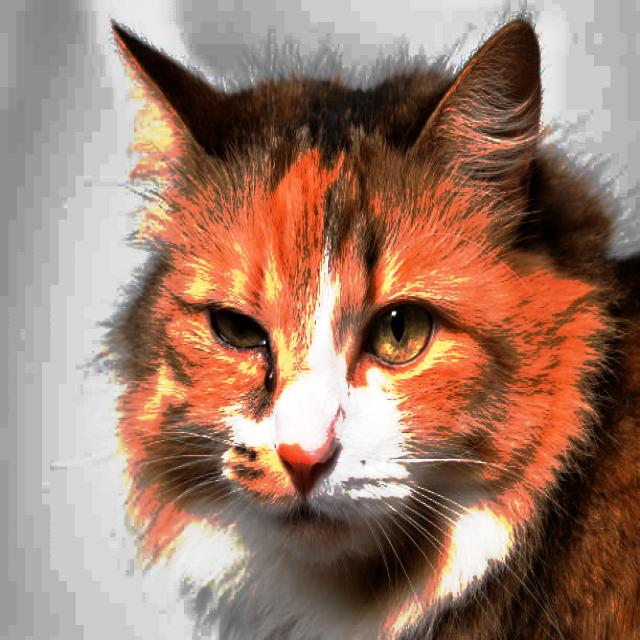eye_infection: (216, 302, 278, 389)
